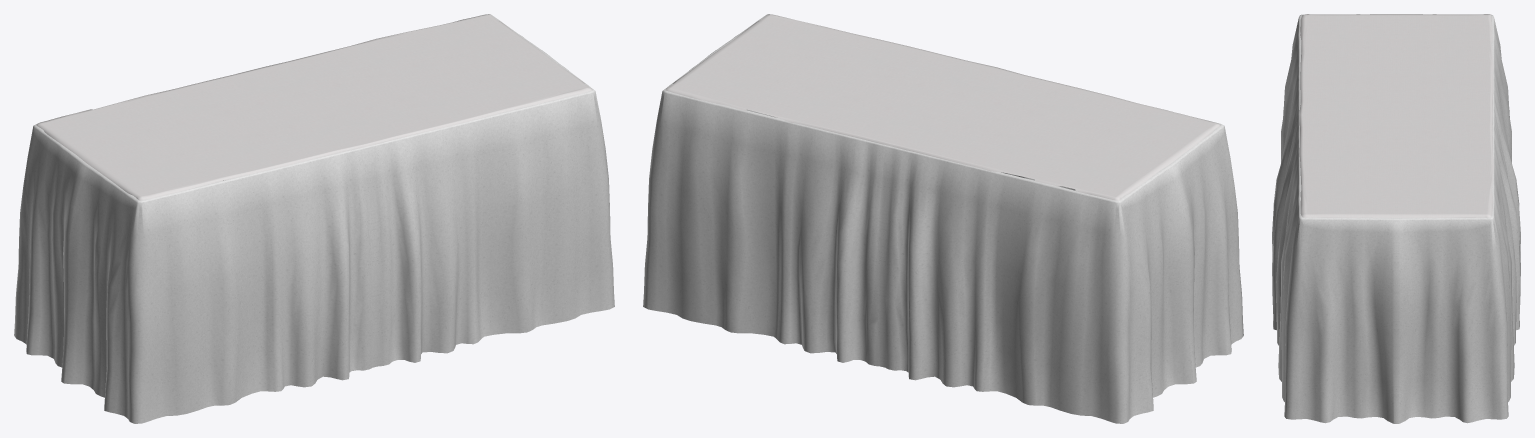
File: EventTable01Cloth04_1.FBX
The picture shows the model from 3 angles, left to right: view 1: azimuth 30°, elevation 25°; view 2: azimuth 150°, elevation 25°; view 3: azimuth 270°, elevation 25°; orthographic projection. The views are drawn at different scales.
Parts seen in each view (by area): view 1: EventTable01Cloth04_1; view 2: EventTable01Cloth04_1; view 3: EventTable01Cloth04_1.
Part boxes in pixels (bbox=[...]): EventTable01Cloth04_1: bbox=[14, 14, 614, 423]; EventTable01Cloth04_1: bbox=[643, 14, 1243, 423]; EventTable01Cloth04_1: bbox=[1272, 14, 1520, 423].
Size of what is drawn, in the model's own units: 2.2 by 0.9039 by 1.03.
